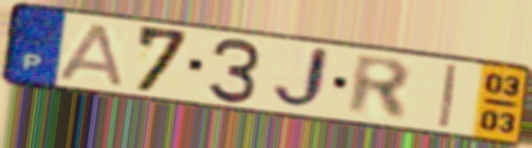3: (203, 35, 265, 106)
7: (131, 23, 191, 95)
A: (55, 21, 127, 90)
I: (436, 62, 461, 131)
J: (267, 44, 334, 113)
R: (345, 51, 414, 124)
